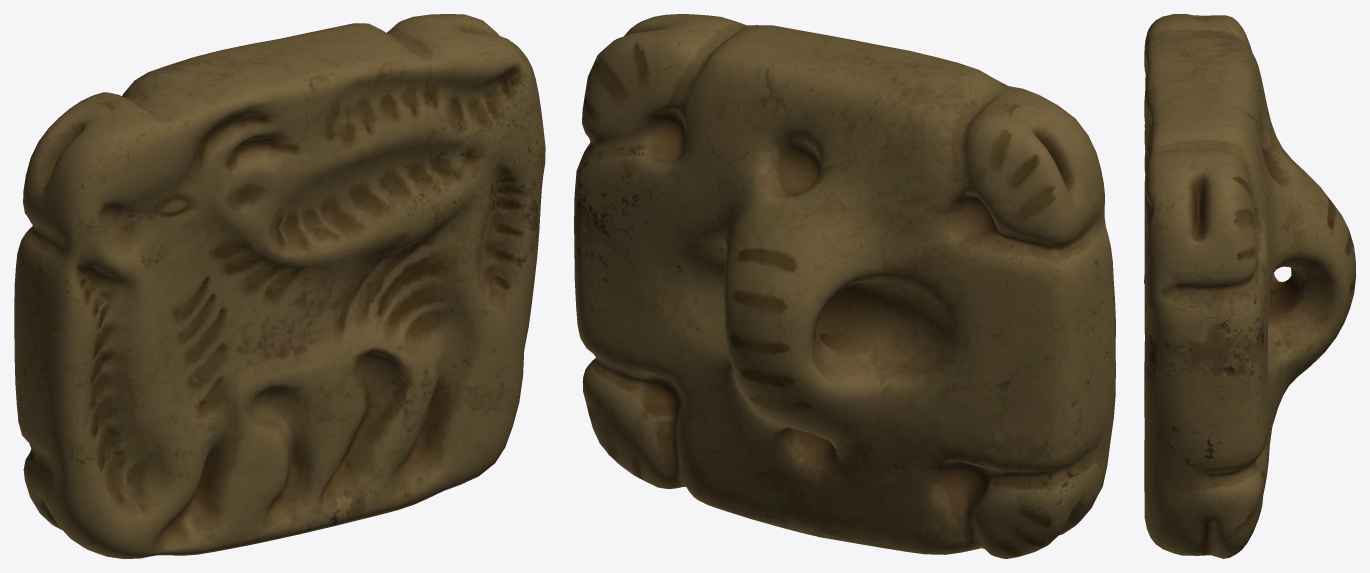
The model's file is seal.glb.
3 views of the same model, side by side, from view 1: azimuth 30°, elevation 25°; view 2: azimuth 150°, elevation 25°; view 3: azimuth 270°, elevation 25° (orthographic). The views are drawn at different scales.
Visible parts, largest first — view 1: Low46; view 2: Low46; view 3: Low46.
Boxes of the visible parts, x1,y1,x2,y2 form: Low46: (14,14,545,558); Low46: (574,14,1115,558); Low46: (1144,14,1355,558).
Size of the model in its own units: 1.08 by 0.9682 by 0.4545.
Materials: 1 (1 with a texture image).
